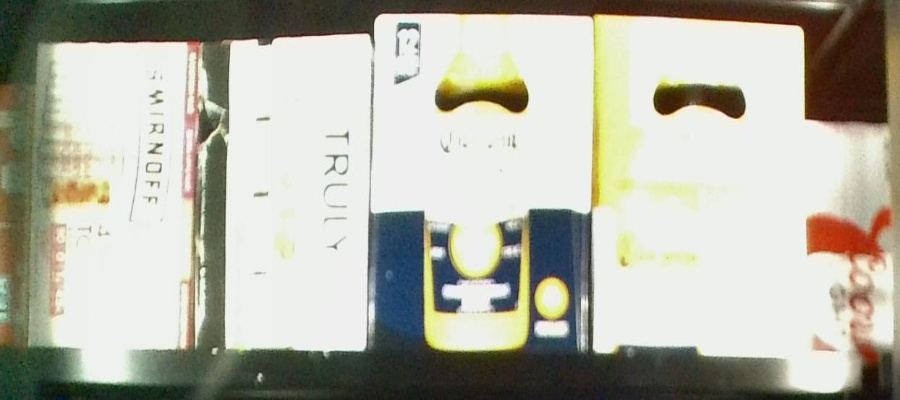bottle: (373, 12, 591, 352), (595, 15, 805, 356), (32, 40, 198, 355), (202, 41, 365, 353), (805, 123, 893, 356)
